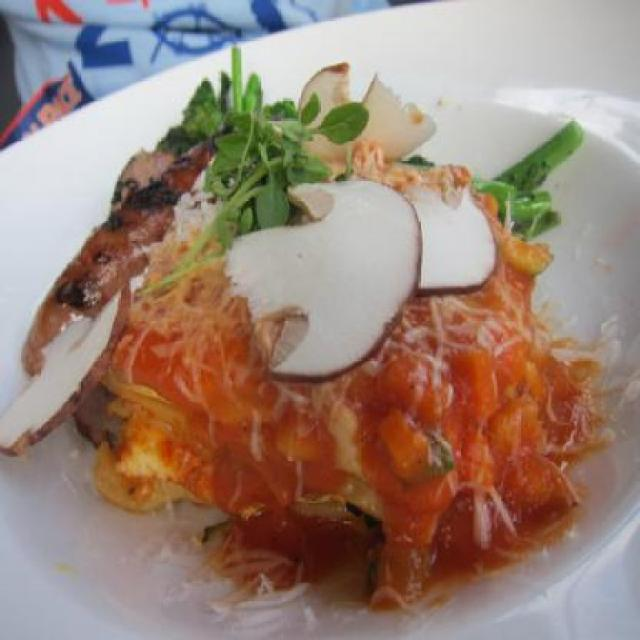Lasagna: (135, 288, 568, 566)
